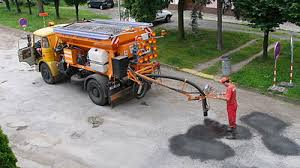pothole: (238, 112, 300, 156), (169, 131, 233, 158), (85, 114, 104, 128)
